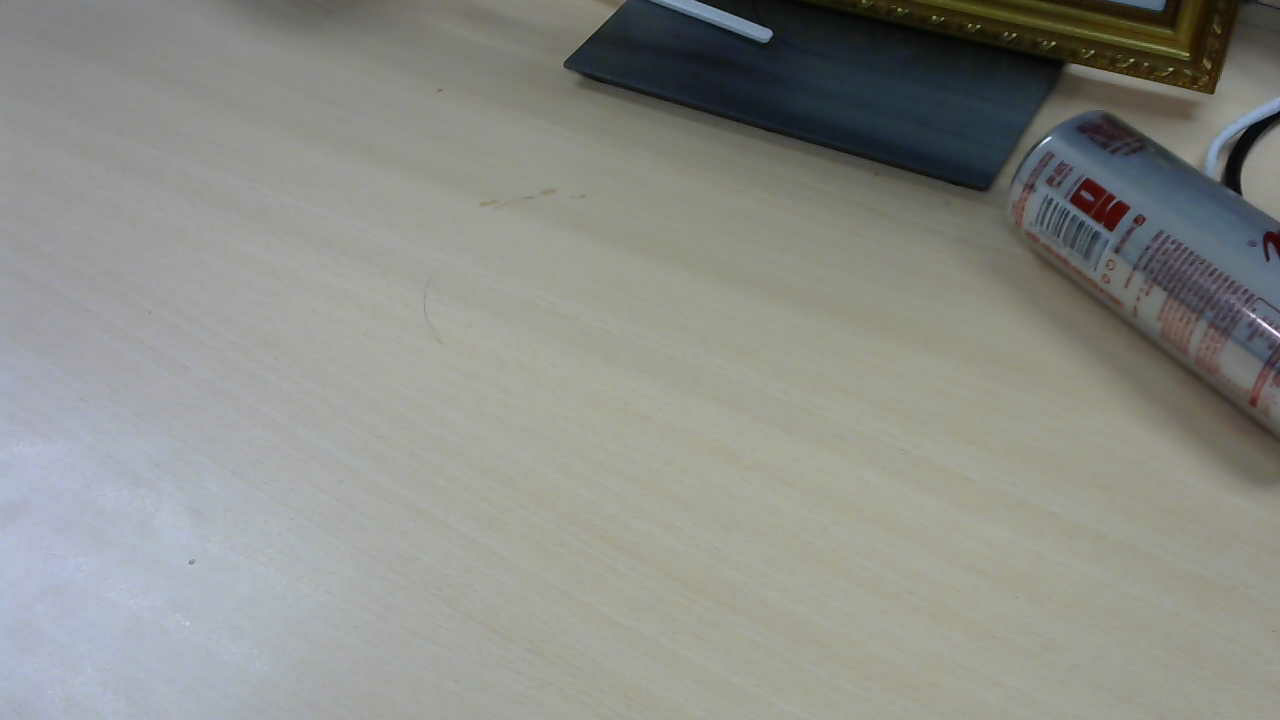Coca_Cola: (1007, 113, 1280, 447)
